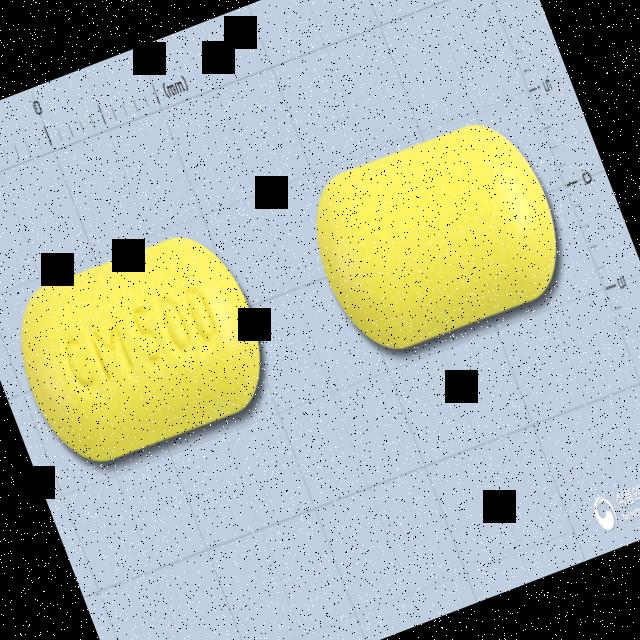Claricin: (0, 214, 289, 486)
